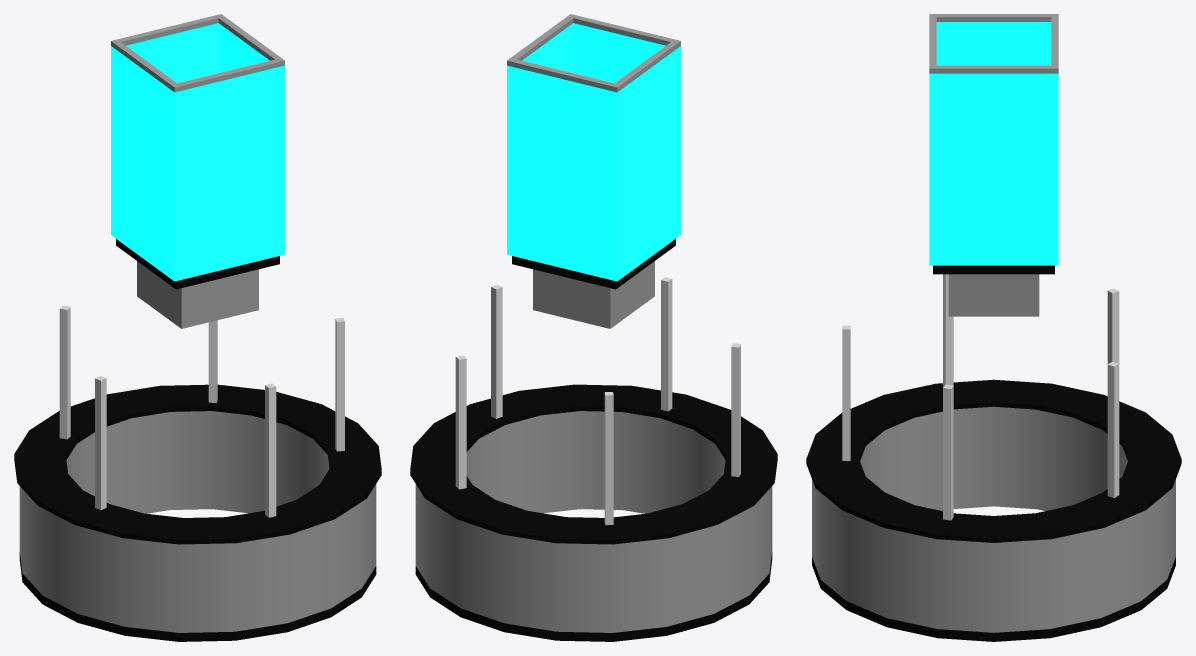
The model's file is Kiosk_base_nolight.glb.
The picture shows the model from 3 angles, left to right: view 1: azimuth 30°, elevation 25°; view 2: azimuth 150°, elevation 25°; view 3: azimuth 270°, elevation 25°; orthographic projection.
Visible parts, largest first — view 1: Cube.006; view 2: Cube.006; view 3: Cube.006.
Boxes of the visible parts, x1,y1,x2,y2 form: Cube.006: (14,14,381,641); Cube.006: (410,14,777,641); Cube.006: (806,14,1181,641).
Size of the model in its own units: 0.0843 by 0.1298 by 0.0843.
